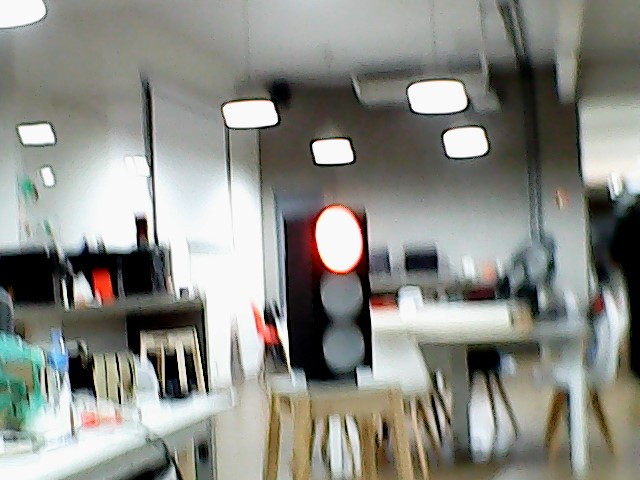vermelho: (279, 204, 385, 372)
